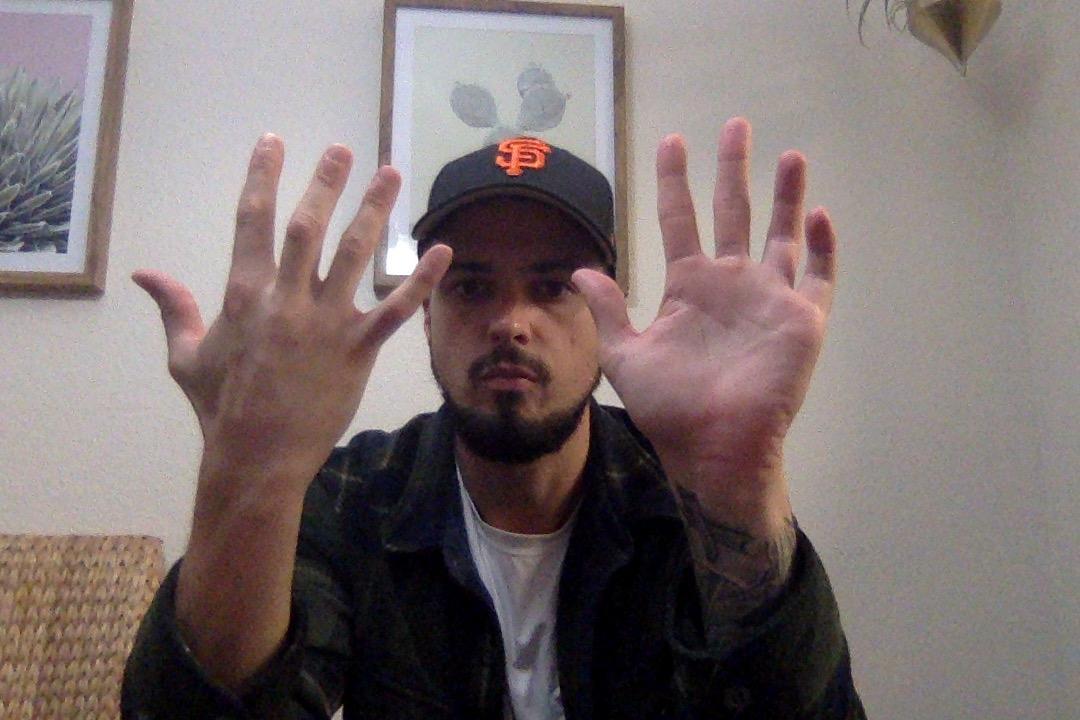Fingers-Spread: (562, 110, 846, 527), (118, 125, 457, 471)
